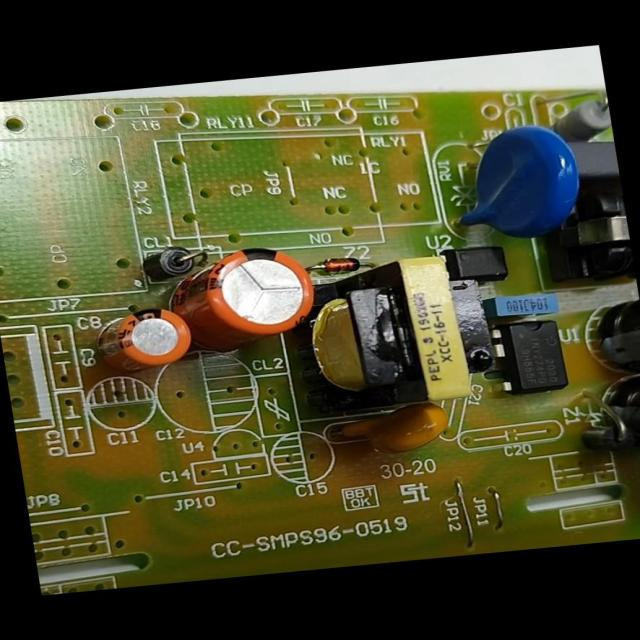Cap1: (163, 238, 325, 354)
Cap2: (81, 305, 201, 377)
Cap3: (574, 281, 639, 381)
Cap4: (588, 370, 639, 470)
MOSFET: (487, 313, 573, 399)
Mov: (439, 117, 590, 243)
Resistor: (546, 86, 613, 144)
Transformer: (278, 244, 511, 420), (532, 183, 635, 288)
